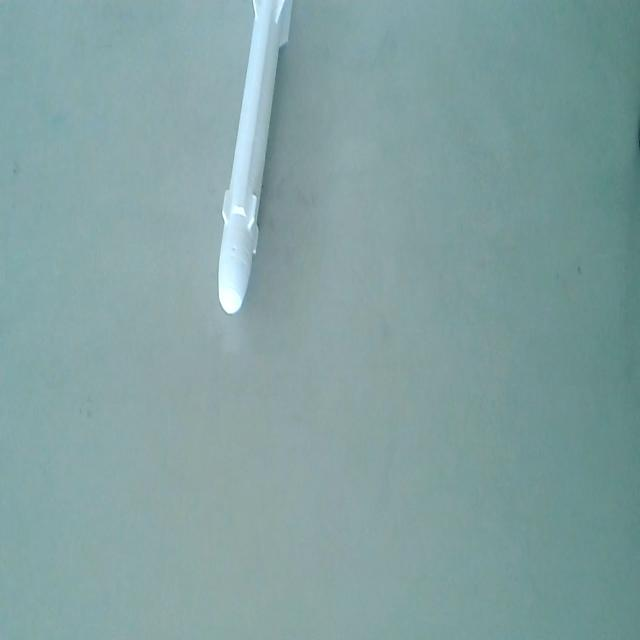Rocket: (210, 0, 299, 319)
